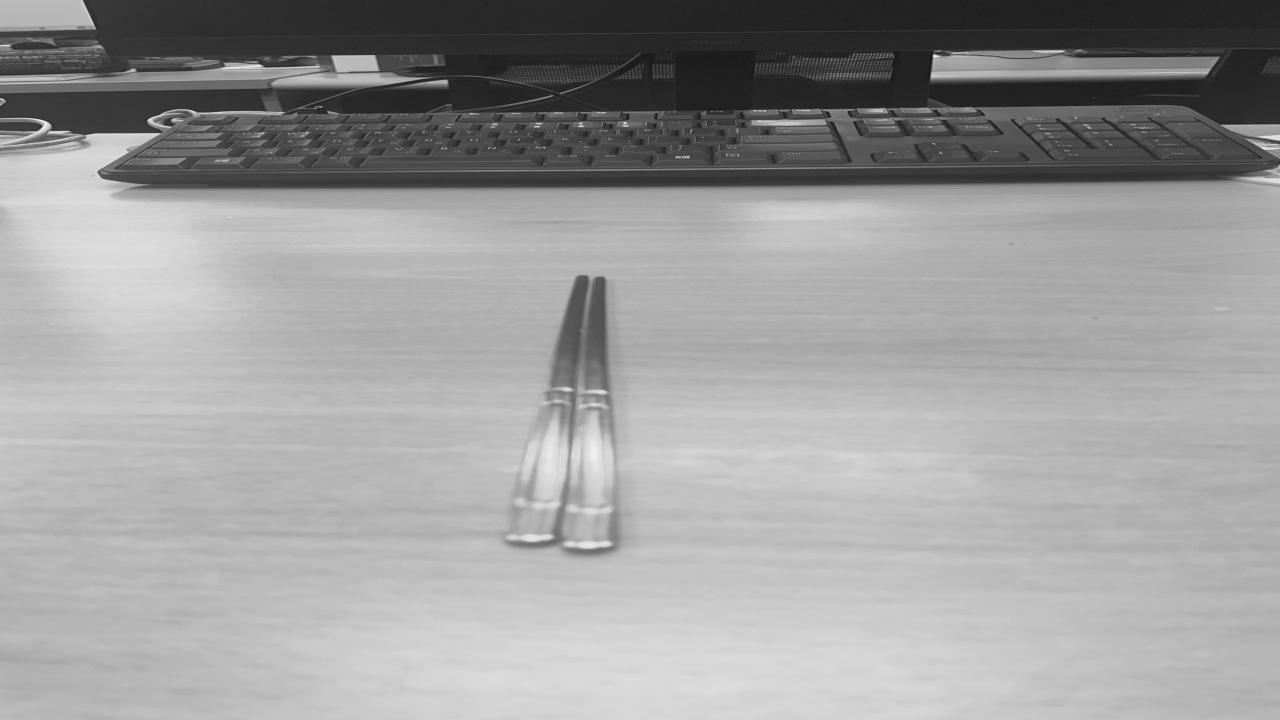chopstick: (508, 278, 618, 547)
